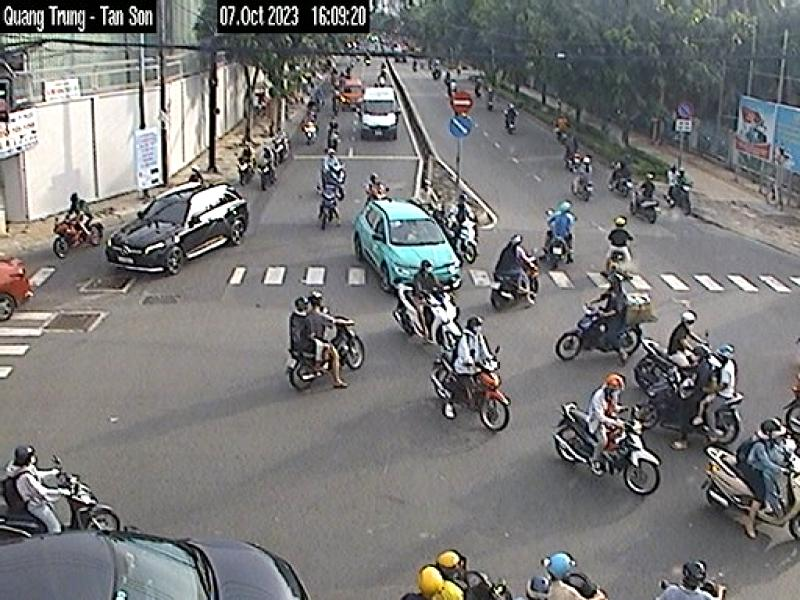car: (0, 531, 316, 600), (104, 182, 254, 278), (354, 197, 457, 293)
motorcycle: (703, 444, 800, 546), (614, 416, 664, 498), (465, 356, 516, 436), (60, 473, 126, 531), (331, 319, 372, 374)
